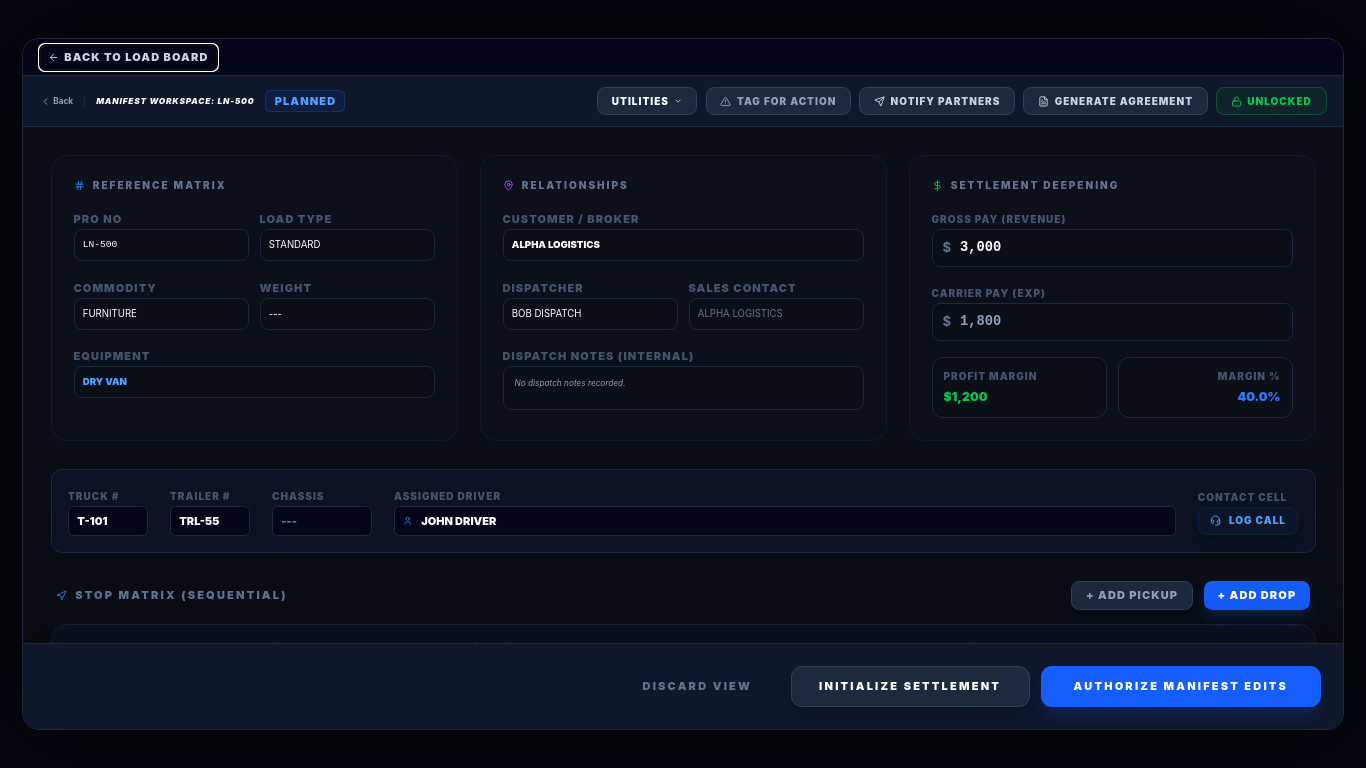
Test case: LoadDetailView deep coverage — lines 151-190 › toast display after invoice generation (lines 175-180) › renders error toast when Initialize Settlement fails
Click the button "Initialize Settlement" at (910,686), box [791,666,1030,707]
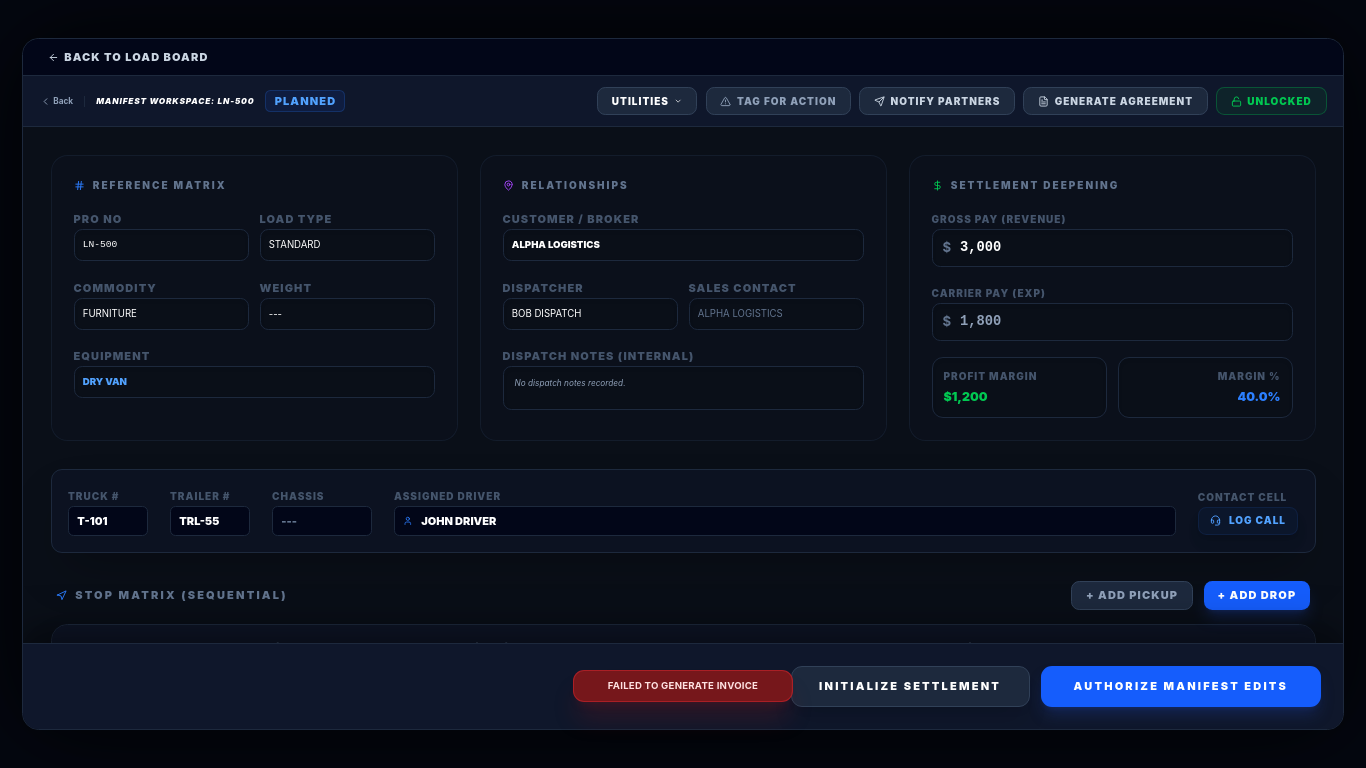
Check: the text "Failed to generate invoice" is shown, box [573,670,793,702]
